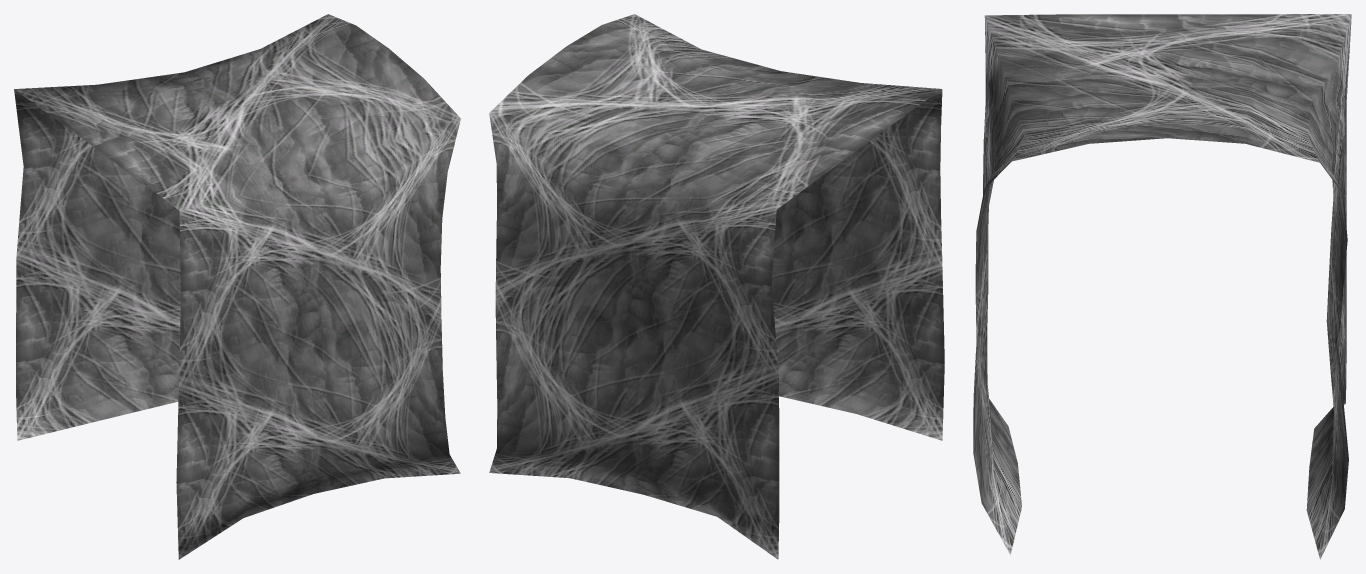
Rendered from SWORDLIGHT20_PS-AREA01_13.fbx.
3 views of the same model, side by side, from view 1: azimuth 30°, elevation 25°; view 2: azimuth 150°, elevation 25°; view 3: azimuth 270°, elevation 25° (orthographic). The views are drawn at different scales.
Parts seen in each view (by area): view 1: SWORDLIGHT20_PS-AREA01_13; view 2: SWORDLIGHT20_PS-AREA01_13; view 3: SWORDLIGHT20_PS-AREA01_13.
Boxes of the visible parts, bbox=[...] form: SWORDLIGHT20_PS-AREA01_13: bbox=[14, 14, 460, 559]; SWORDLIGHT20_PS-AREA01_13: bbox=[489, 14, 944, 559]; SWORDLIGHT20_PS-AREA01_13: bbox=[973, 14, 1351, 559].
Bounding box in the file's own units: 74285 × 89437 × 72516.
Materials: 1 (1 with a texture image).
